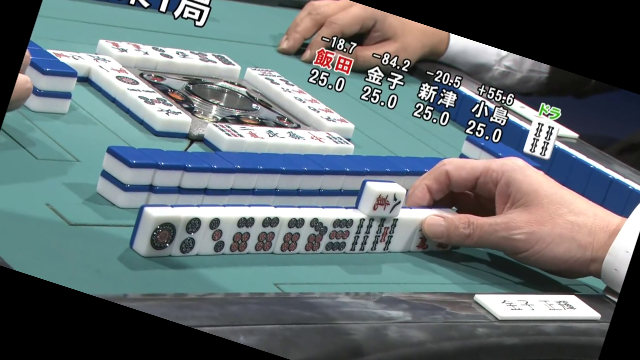Tehai: (130, 197, 467, 259)
